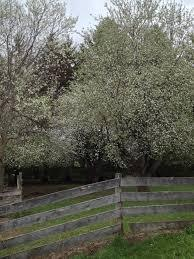tree: (72, 46, 191, 198)
